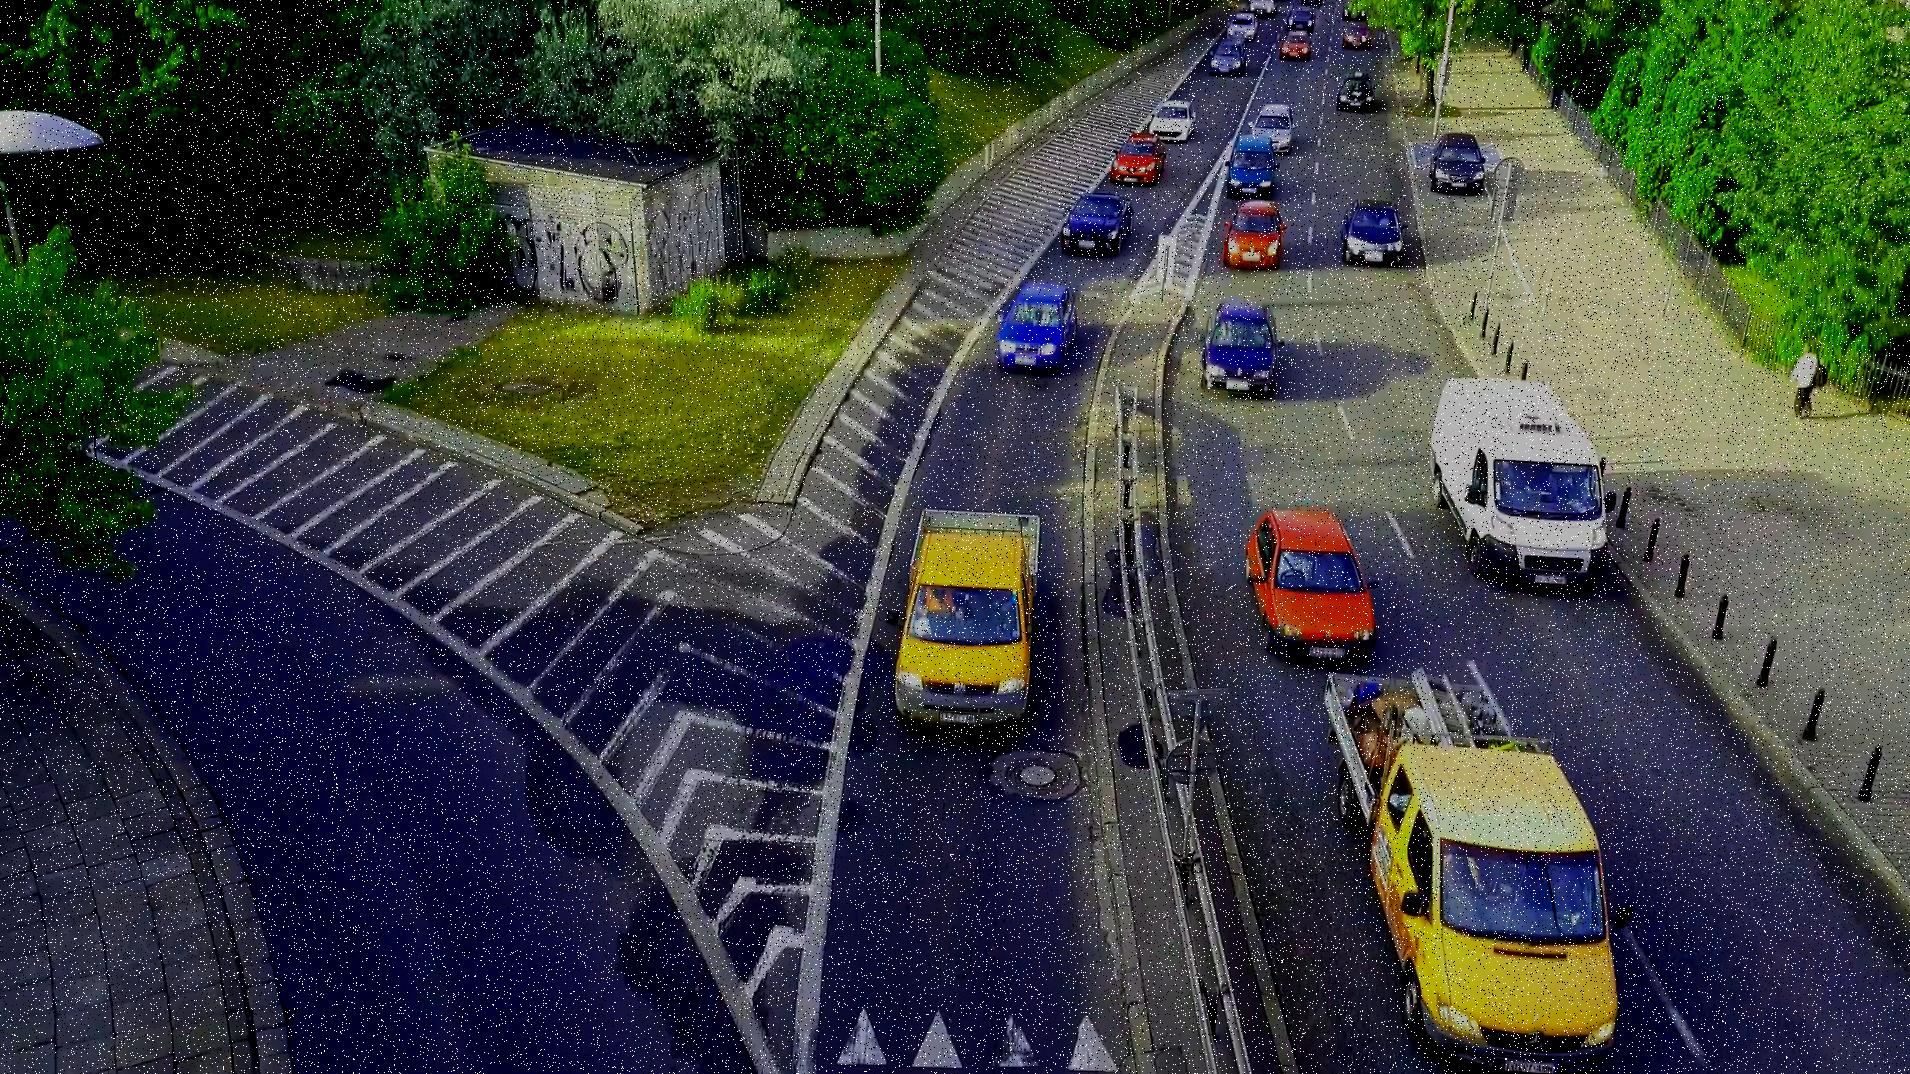car: (1422, 363, 1614, 583), (1222, 500, 1385, 687), (1194, 294, 1287, 411), (989, 283, 1085, 376), (1052, 181, 1142, 267), (1211, 198, 1292, 268), (1339, 193, 1407, 270), (1431, 126, 1485, 198), (1242, 100, 1305, 161), (1224, 133, 1281, 194), (1109, 128, 1166, 187), (1152, 96, 1203, 141), (1207, 31, 1252, 80), (1339, 67, 1379, 115)
truck: (1311, 644, 1629, 1061), (874, 502, 1050, 741)
